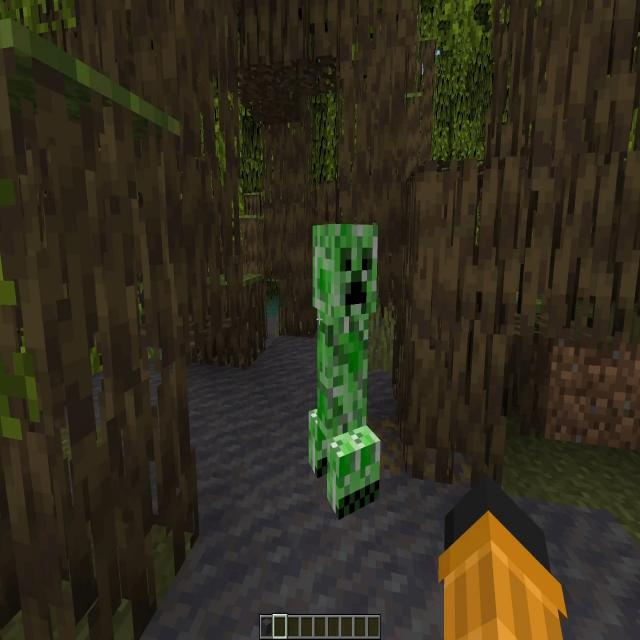Creeper: (313, 222, 377, 507)
